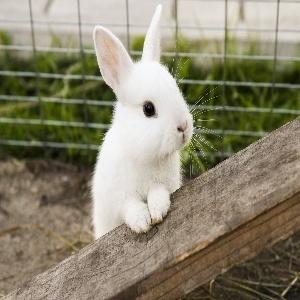rabbit: (92, 5, 193, 239)
